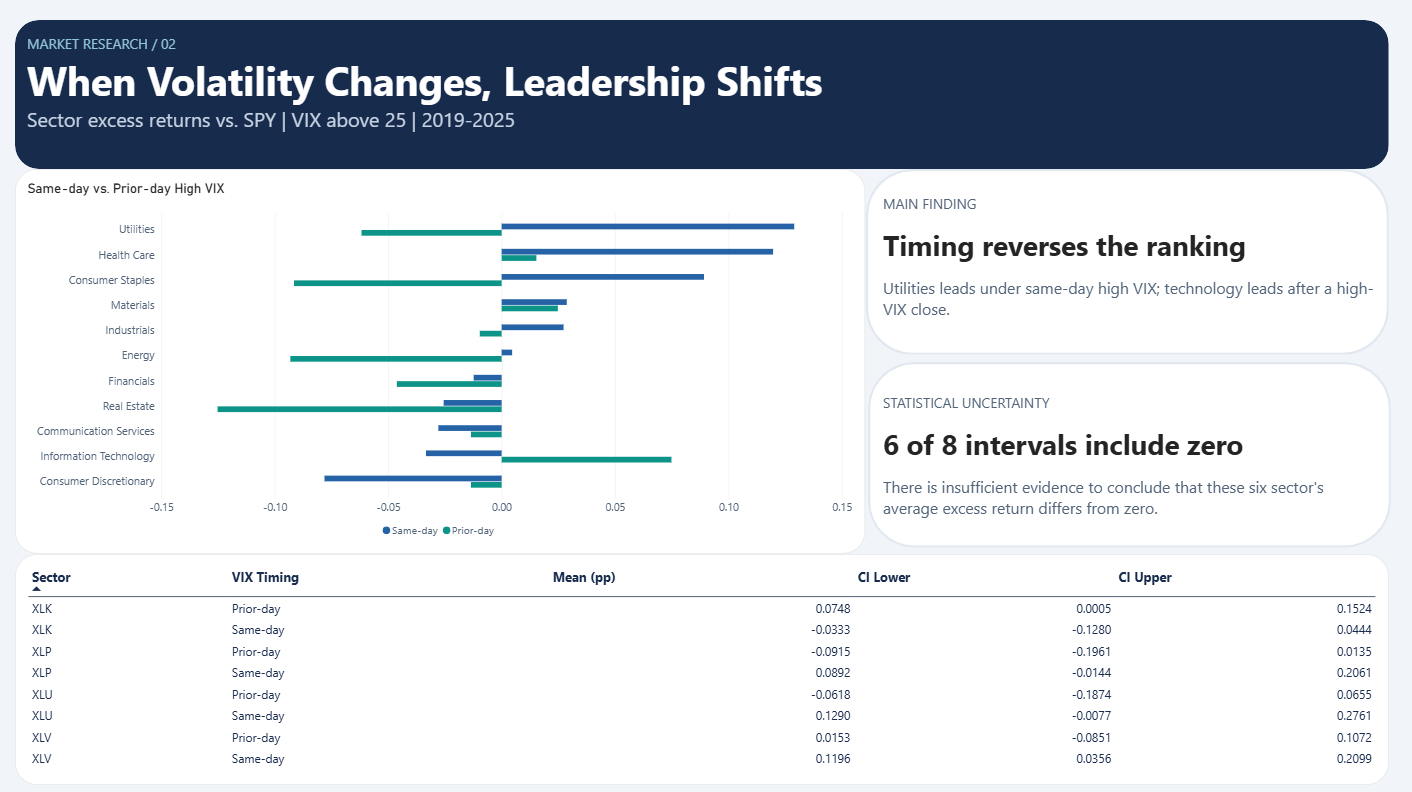

The page's visual inventory and layout, read from the dashboard file:
{"tool":"powerbi","page":{"name":"Market Regime Analysis","canvas":[1920,1080],"ordinal":1},"visuals":[{"type":"shape","box":[25.6,36.4,1850,200.6],"z":0,"group":"g1"},{"type":"textbox","box":[41.8,55.3,1535.2,164.3],"z":1000,"group":"g1"},{"type":"clusteredBarChart","title":"Same-day vs. Prior-day High VIX","fields":{"Category":["sector_market_daily.sector"],"Y":["sector_market_daily.Same-Day High VIX Excess (pp)","sector_market_daily.Prior-Day High VIX Excess (pp)"]},"box":[25.6,237,1144.6,518.5],"z":2000},{"type":"tableEx","fields":{"Values":["bootstrap_results.ticker","bootstrap_results.timing","Sum(bootstrap_results.mean_excess_pp)","Sum(bootstrap_results.ci_lower)","Sum(bootstrap_results.ci_upper)"]},"box":[25.6,755.5,1850.3,311.1],"z":3000},{"type":"shape","box":[1171.6,237,704.3,250.5],"z":4000,"group":"g2"},{"type":"shape","box":[1174.3,496.9,704.3,250],"z":5000,"group":"g3"},{"type":"textbox","box":[1194.5,251.8,665.2,204.7],"z":6000,"group":"g2"},{"type":"textbox","box":[1194.5,519.8,665.2,204.7],"z":7000,"group":"g3"},{"type":"group","id":"g1","title":"Group 1","box":[25.6,36.4,1850,200.6],"z":7001},{"type":"group","id":"g2","title":"Group 2","box":[1171.6,237,704.3,250.5],"z":7002},{"type":"group","id":"g3","title":"Group 3","box":[1174.3,496.9,704.3,250],"z":7003}]}

Visuals, with their boxes in screenshot pixels (x1, y1, x2, y2), scaled from the page's 1920x1080 canvas onto the 1412x792 screenshot:
shape: <box>19,27,1379,174</box>
textbox: <box>31,41,1160,161</box>
"Same-day vs. Prior-day High VIX" clusteredBarChart: <box>19,174,861,554</box>
tableEx - bootstrap_results.ticker x bootstrap_results.timing: <box>19,554,1380,782</box>
shape: <box>862,174,1380,358</box>
shape: <box>864,364,1382,548</box>
textbox: <box>878,185,1368,335</box>
textbox: <box>878,381,1368,531</box>
"Group 1" group: <box>19,27,1379,174</box>
"Group 2" group: <box>862,174,1380,358</box>
"Group 3" group: <box>864,364,1382,548</box>
